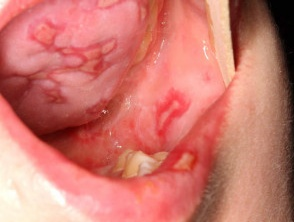SJS-TEN: (0, 14, 120, 109), (140, 86, 194, 140), (170, 148, 201, 182), (93, 0, 126, 13)
